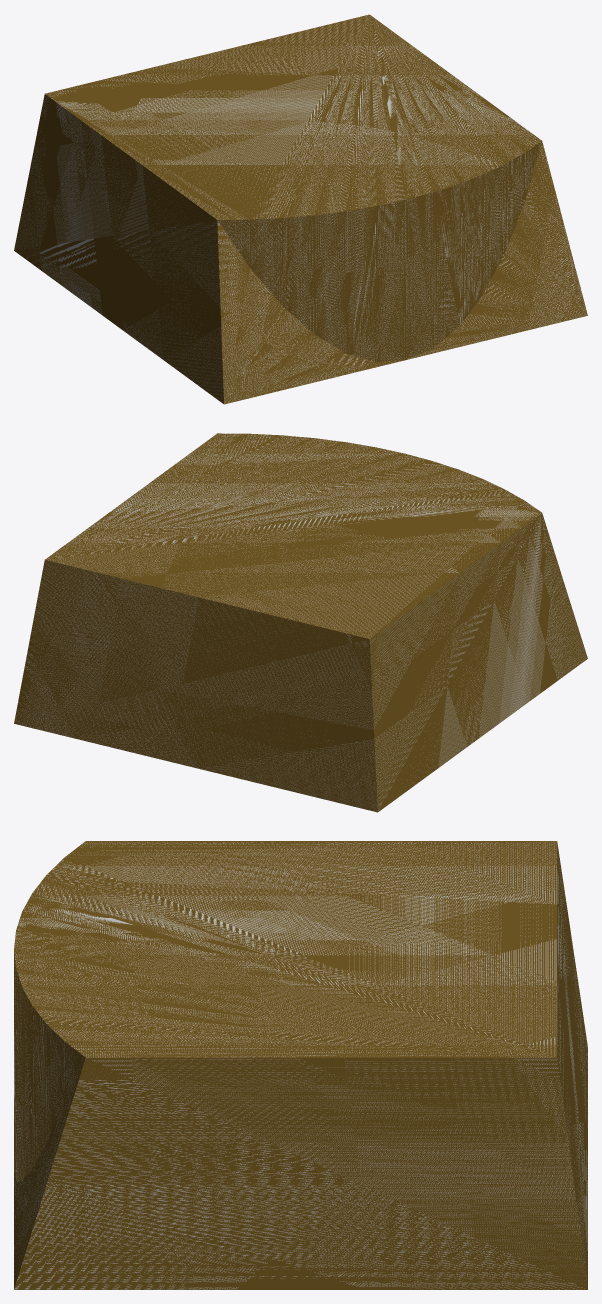
The model's file is original-38.obj.
3 renders of one model, top to bottom at view 1: azimuth 30°, elevation 25°; view 2: azimuth 150°, elevation 25°; view 3: azimuth 270°, elevation 25°, orthographic. The views are drawn at different scales.
Visible parts, largest first — view 1: Gray_Single_Keycap35/Gray_Single_Keycap/mesh8/mesh8-geometry#mes; view 2: Gray_Single_Keycap35/Gray_Single_Keycap/mesh8/mesh8-geometry#mes; view 3: Gray_Single_Keycap35/Gray_Single_Keycap/mesh8/mesh8-geometry#mes.
Part boxes in pixels (x1,y1,x2,y2): Gray_Single_Keycap35/Gray_Single_Keycap/mesh8/mesh8-geometry#mes: [14, 14, 587, 404]; Gray_Single_Keycap35/Gray_Single_Keycap/mesh8/mesh8-geometry#mes: [14, 433, 587, 812]; Gray_Single_Keycap35/Gray_Single_Keycap/mesh8/mesh8-geometry#mes: [14, 841, 587, 1289].
Bounding box in the file's own units: 0.0977 × 0.0412 × 0.0977.
